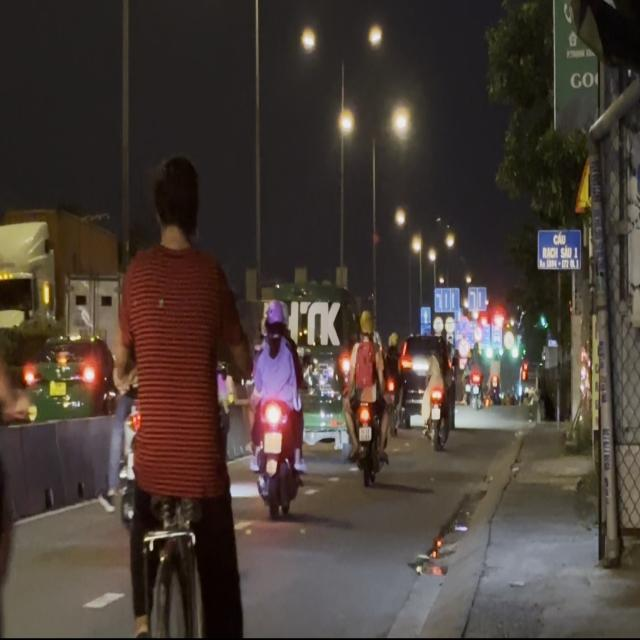helmet: (265, 299, 283, 337)
licenseplate: (248, 292, 307, 518)
nohelmet: (264, 432, 281, 452)
